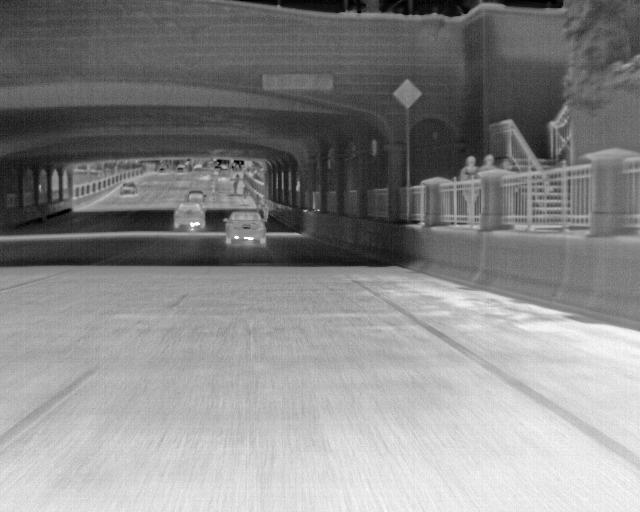bicycle: (222, 210, 270, 246), (172, 204, 206, 233), (185, 188, 207, 206), (117, 182, 139, 196)
empty: (459, 156, 479, 183), (475, 153, 498, 170)
